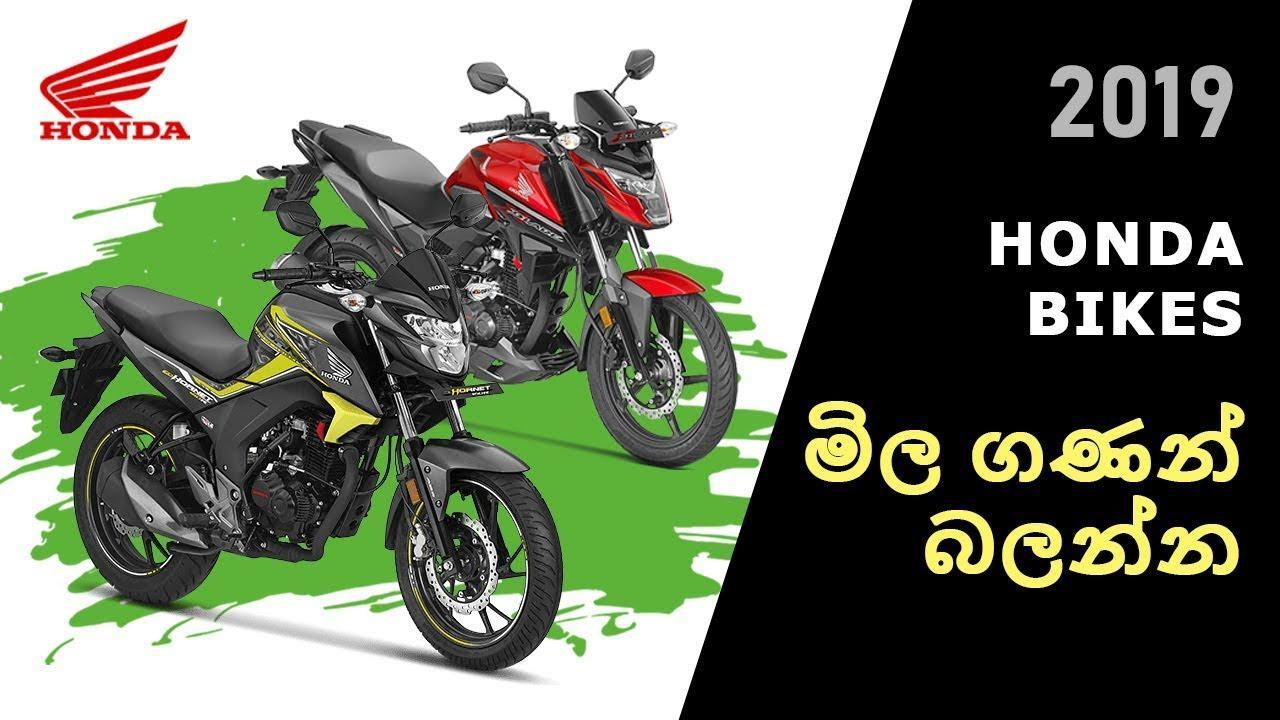motorbike: (40, 202, 562, 674), (258, 48, 738, 468)
